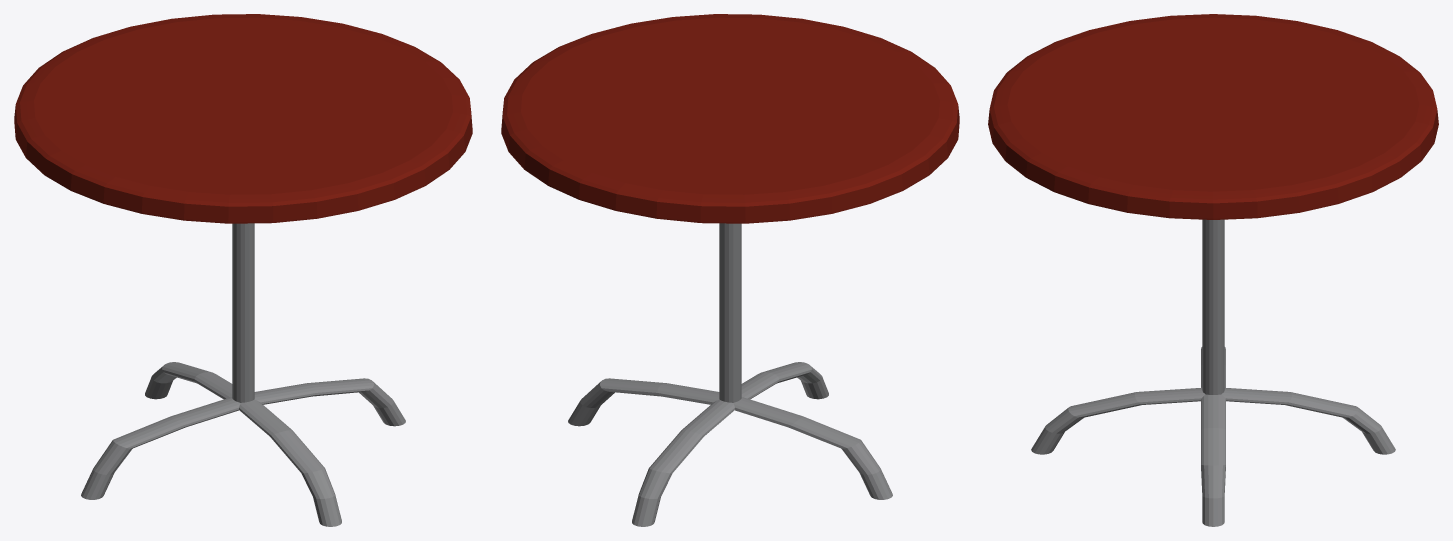
The model's file is table.fbx.
The picture shows the model from 3 angles, left to right: view 1: azimuth 30°, elevation 25°; view 2: azimuth 150°, elevation 25°; view 3: azimuth 270°, elevation 25°; orthographic projection.
Visible parts, largest first — view 1: Cylinder; view 2: Cylinder; view 3: Cylinder.
Part boxes in pixels (bbox=[...]): Cylinder: bbox=[14, 14, 472, 526]; Cylinder: bbox=[501, 14, 959, 526]; Cylinder: bbox=[988, 14, 1438, 526].
Size of the model in its own units: 171 by 144 by 171.
